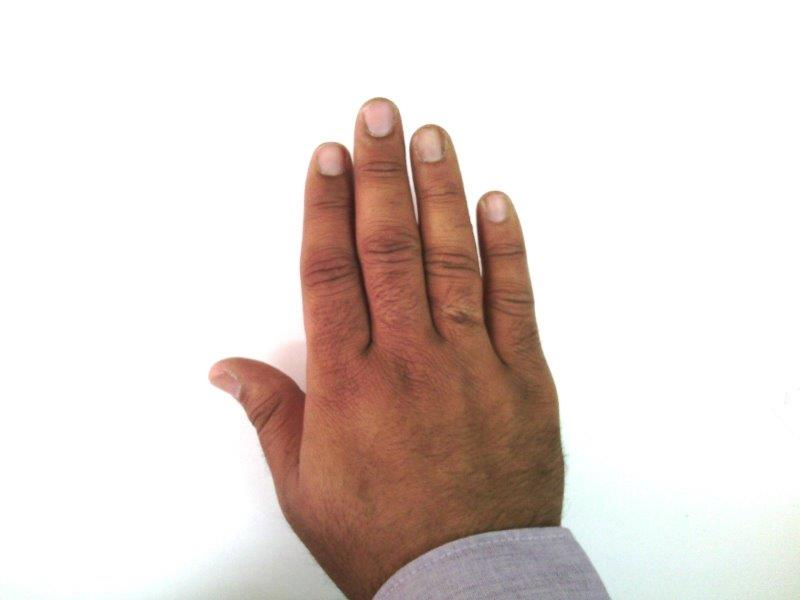hand: (211, 98, 564, 523)
